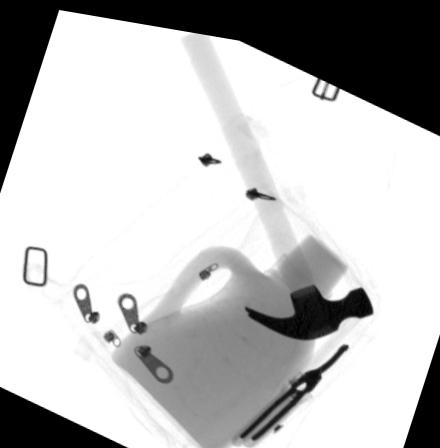Hammer: (179, 26, 373, 330)
Pliers: (228, 331, 347, 439)
